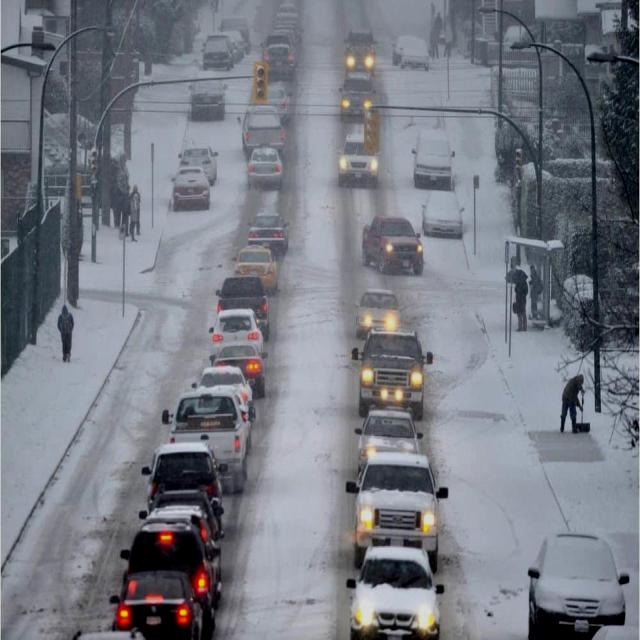Car: (350, 450, 444, 570), (525, 532, 629, 639), (344, 547, 444, 640), (163, 385, 252, 488), (142, 440, 228, 528), (354, 325, 430, 419), (112, 567, 208, 640), (138, 500, 222, 582), (354, 406, 424, 476), (194, 363, 257, 432), (361, 216, 424, 276), (210, 341, 266, 398), (210, 306, 265, 359), (337, 128, 379, 190), (354, 289, 402, 340), (242, 103, 286, 158), (422, 191, 464, 239), (246, 214, 290, 259), (234, 245, 278, 290), (339, 75, 376, 123), (172, 166, 212, 210), (246, 147, 285, 192), (177, 145, 217, 188), (187, 79, 227, 121), (261, 36, 297, 80), (392, 34, 429, 70), (200, 34, 236, 71), (261, 84, 292, 125), (71, 624, 142, 640), (342, 42, 376, 74)
Van: (412, 128, 454, 191)
